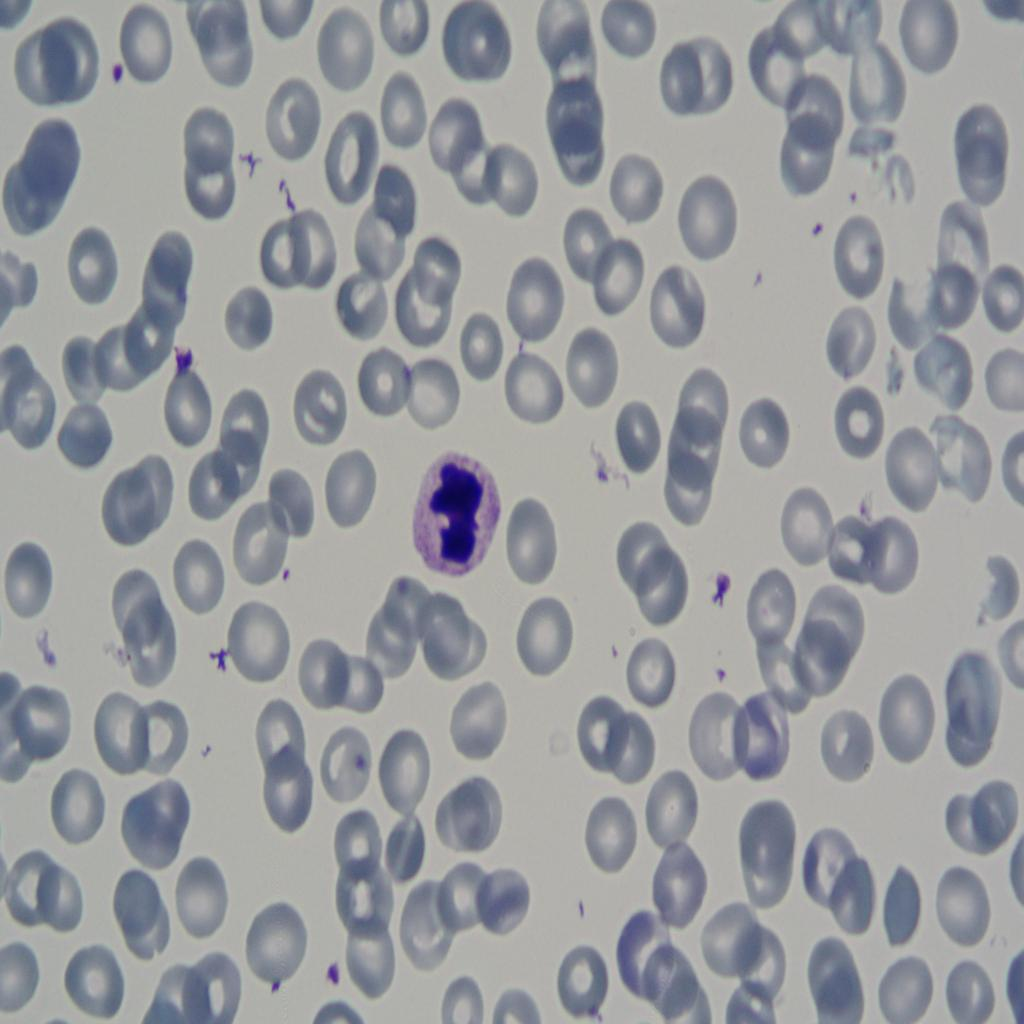Neutrofil: (403, 422, 503, 592)
Platelet: (802, 203, 830, 251), (102, 64, 133, 104), (168, 334, 197, 376), (714, 654, 741, 695), (326, 964, 357, 998), (703, 567, 730, 598), (840, 188, 865, 219)
